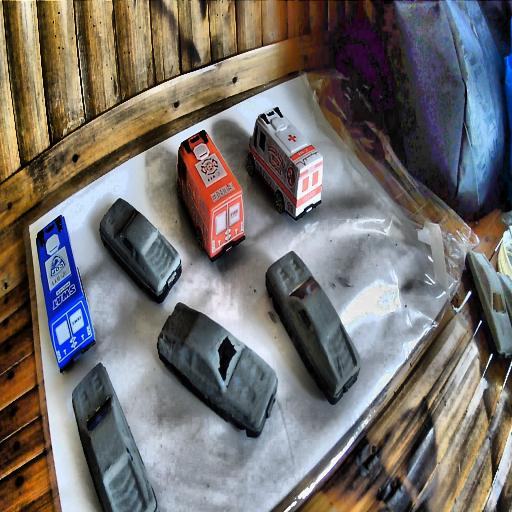ambulance: (250, 104, 323, 219)
fire_truck: (176, 128, 246, 259)
normal_car: (156, 303, 276, 437), (266, 252, 360, 402), (72, 363, 160, 512), (100, 198, 180, 302)
police car: (35, 216, 95, 372)
